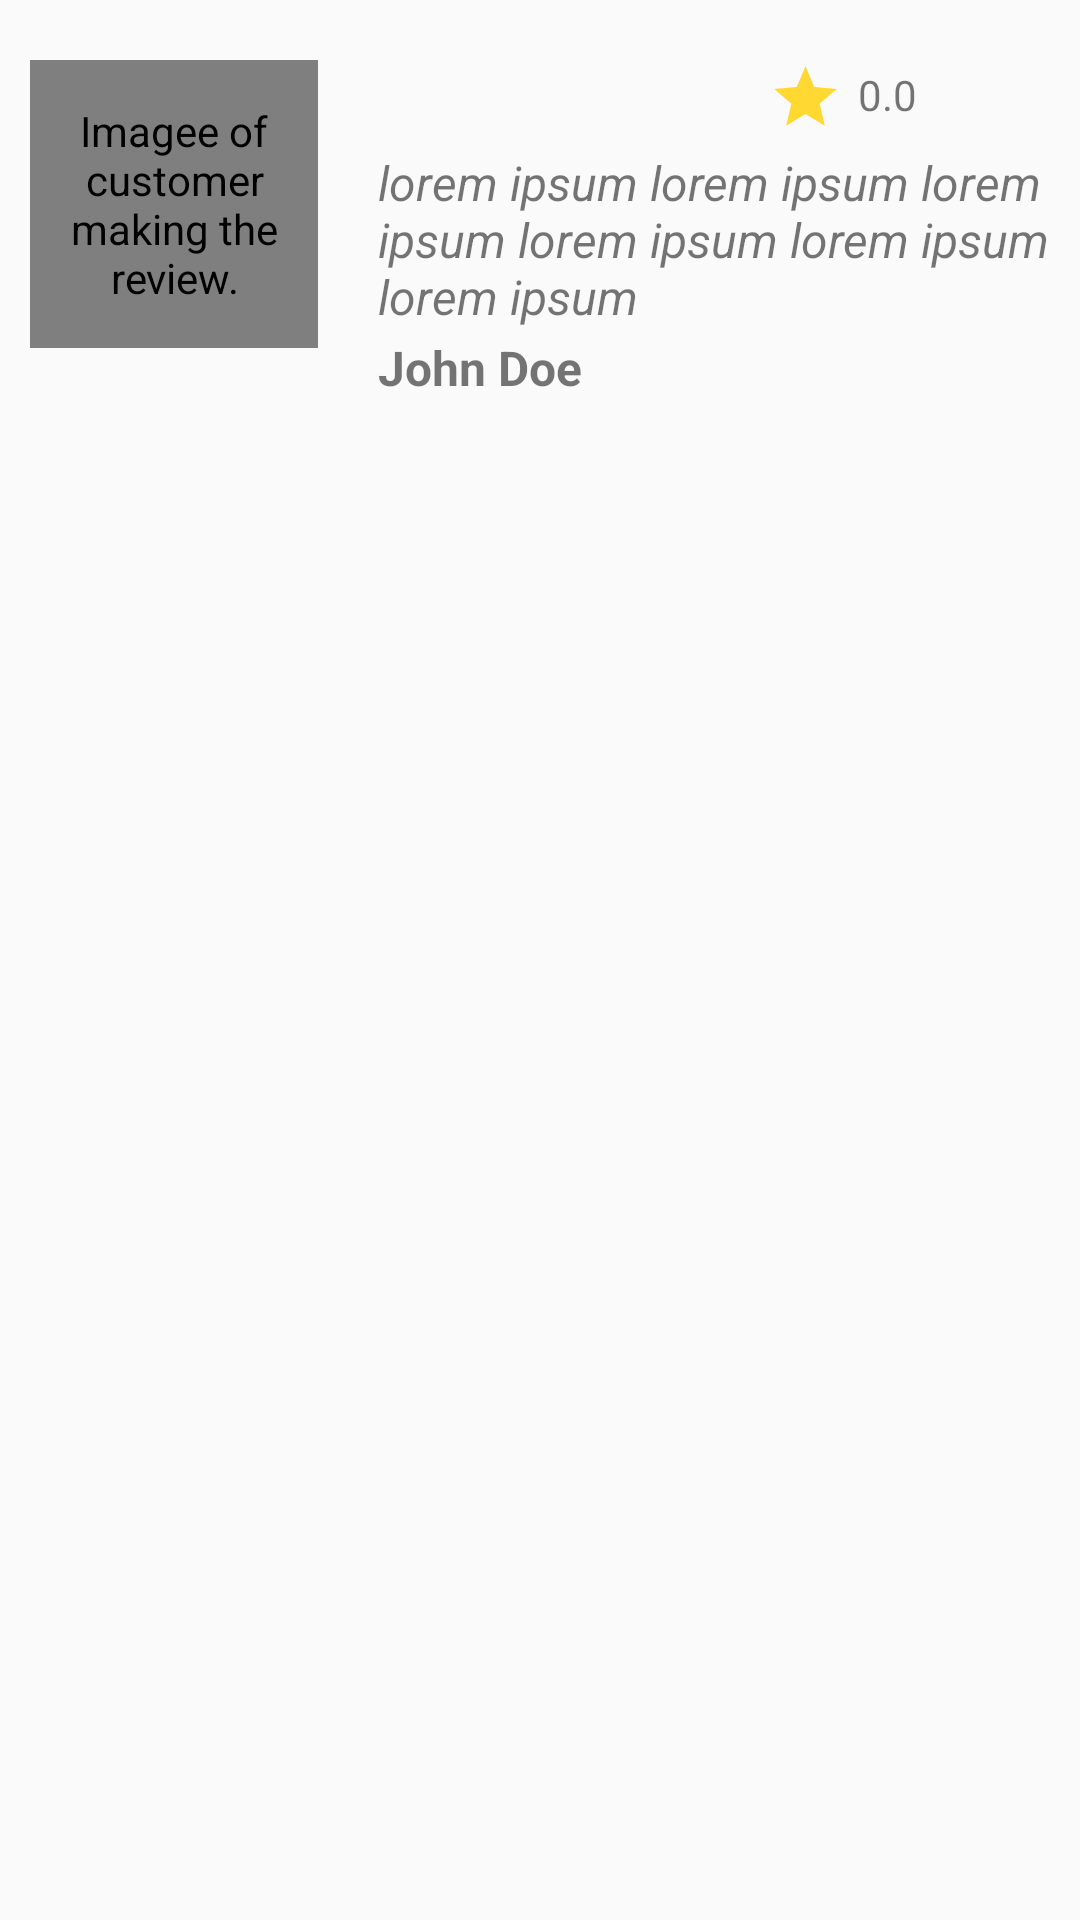

Icons on this 1080*1920 Android screen, each with the point to tap as (x=x, y=y):
star: (x=805, y=96)
